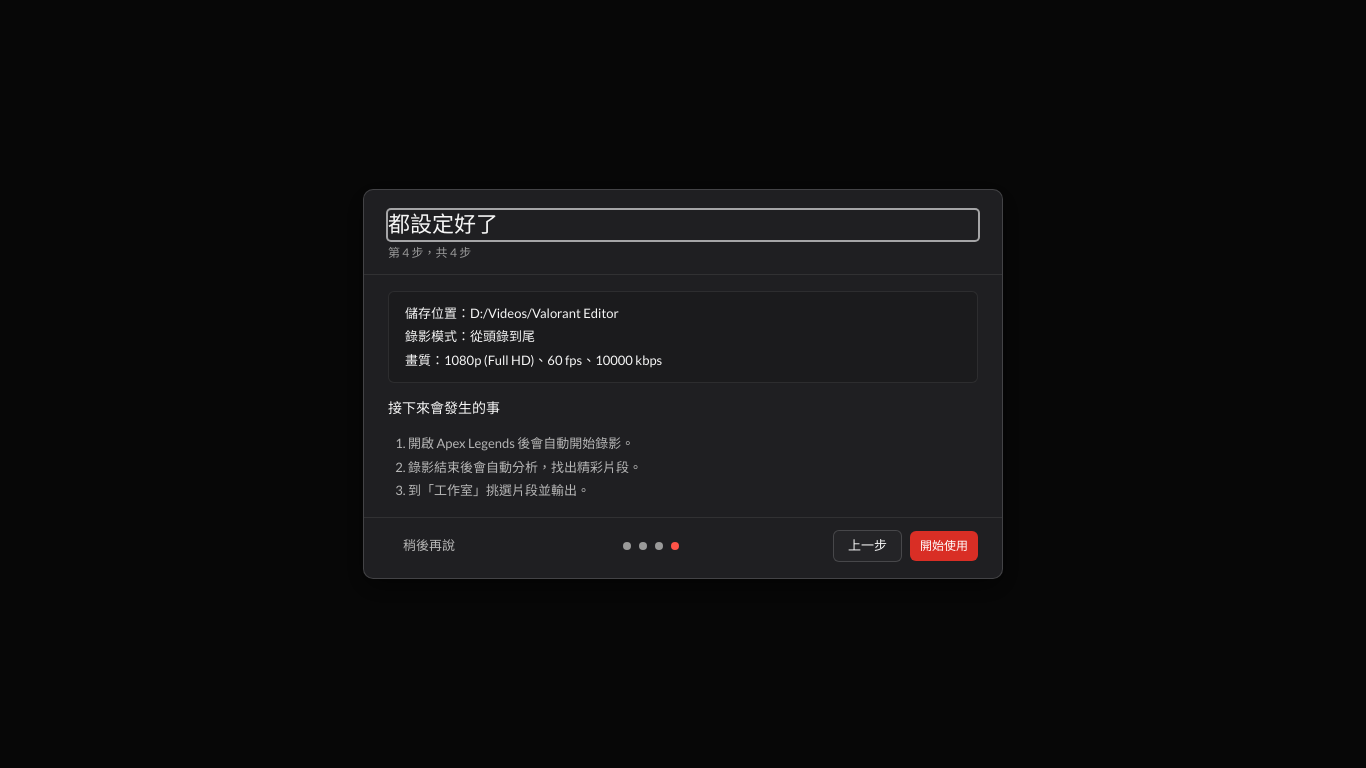
it: Onboarding interactions and submitted data › Storage location failure returns to that step, shows an error, and keeps onboarding open
Click the button "開始使用".
click(944, 546)  # box left=910, top=531, right=978, bottom=561
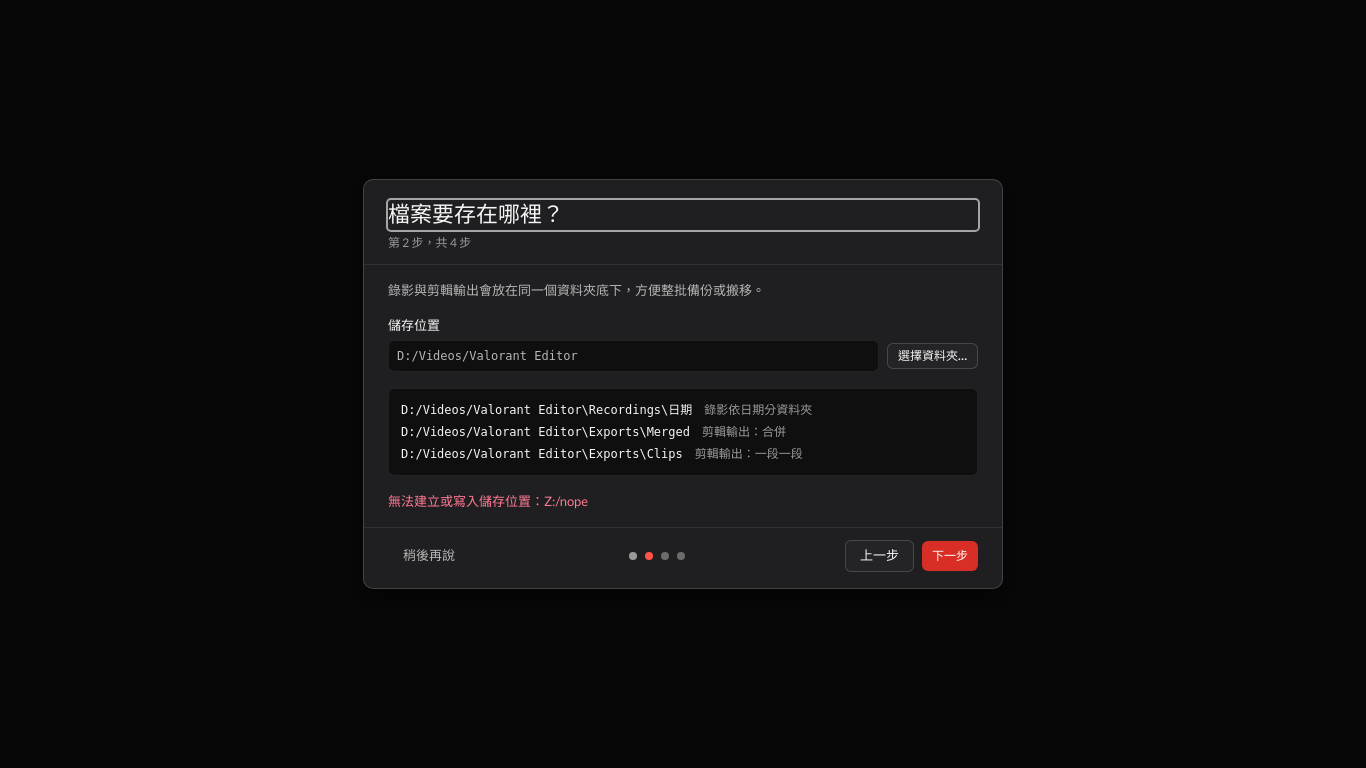
expect the text "檔案要存在哪裡？" is shown: met, box left=388, top=200, right=978, bottom=230
expect the message "無法建立或寫入儲存位置：Z:/nope" is shown: met, box left=388, top=493, right=588, bottom=509
